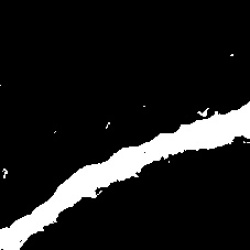crack: (2, 104, 244, 247)
pinhole: (103, 121, 114, 131), (2, 165, 8, 180), (52, 129, 58, 137), (141, 104, 150, 109), (229, 51, 235, 58)
